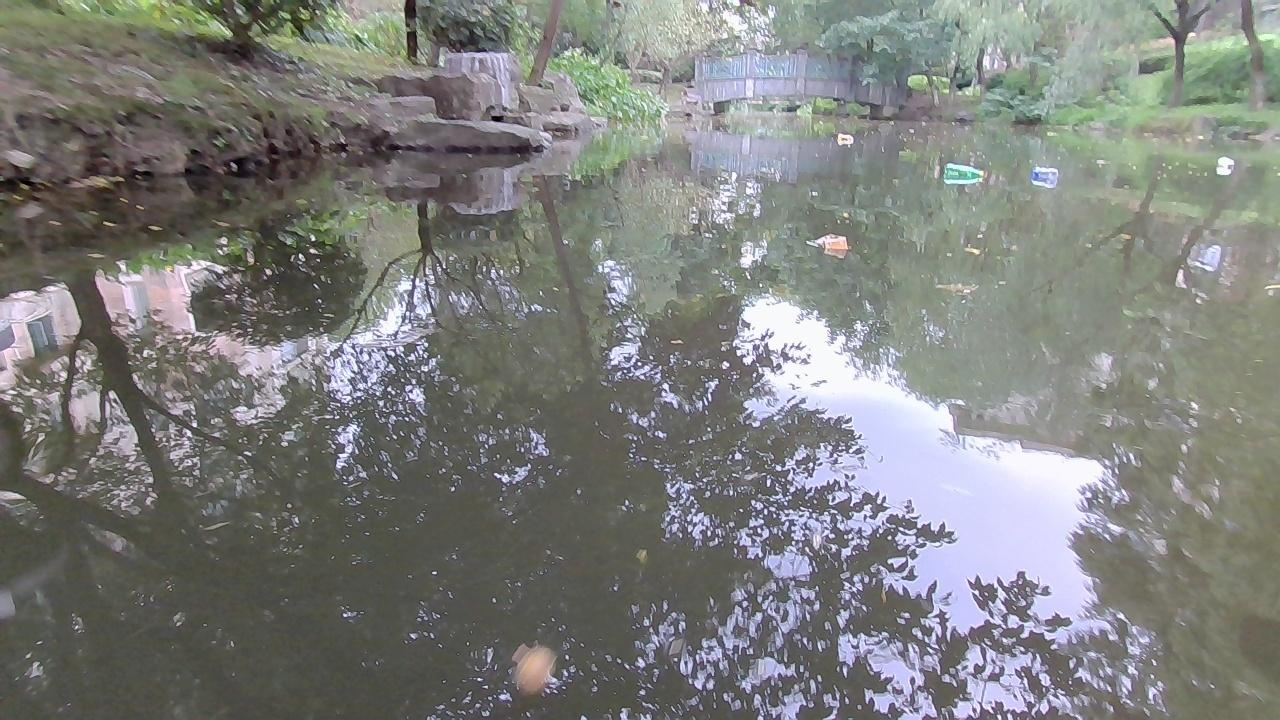bottle: (943, 162, 981, 179), (812, 232, 848, 249), (1030, 166, 1056, 180), (1219, 154, 1235, 168), (835, 130, 853, 142)
